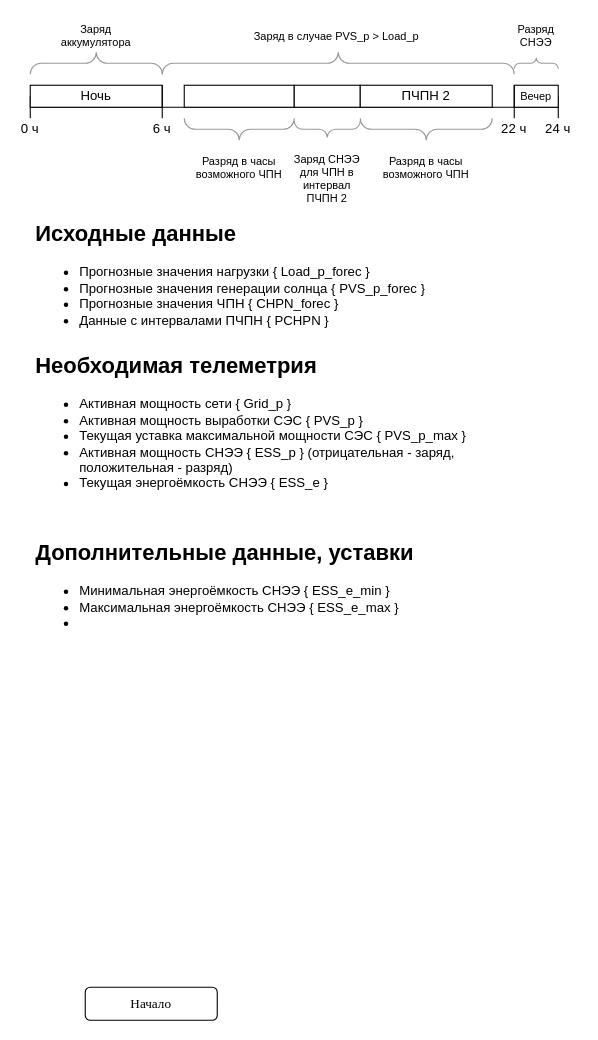
Image size: 598x1040. Some labels were removed from this diagram. Each missing label, with the centre of its shape:
"Интервал" goes at (x=326, y=95).
"ПЧПН 1" goes at (x=238, y=95).
